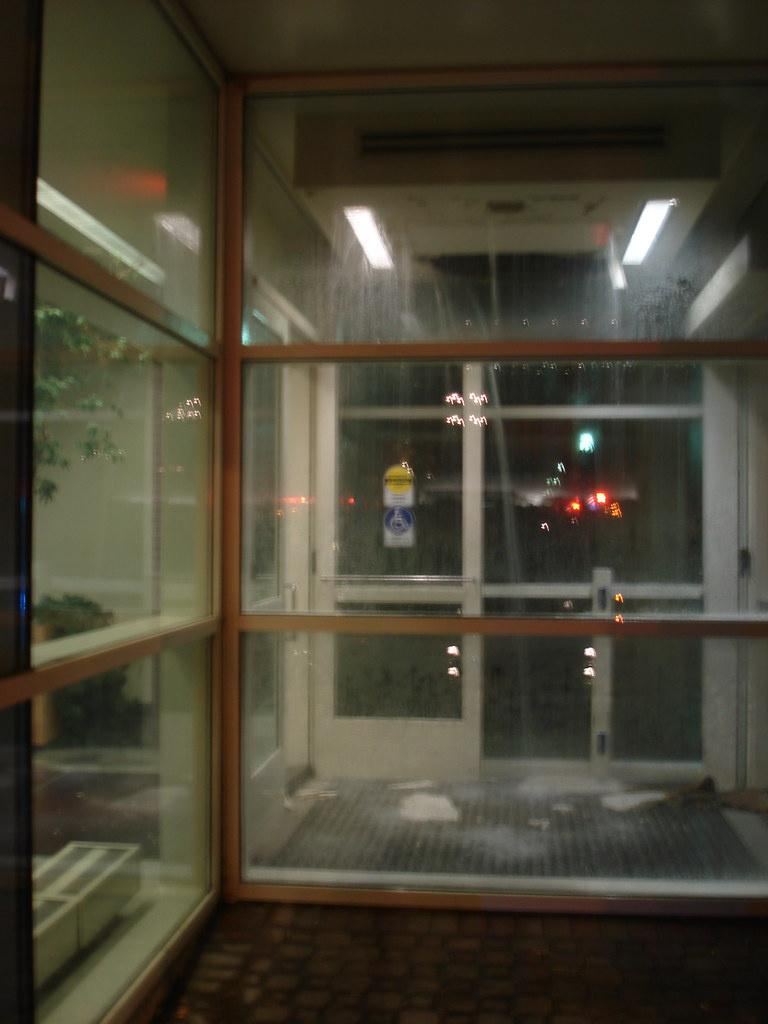pipe burst: (452, 267, 538, 792)
